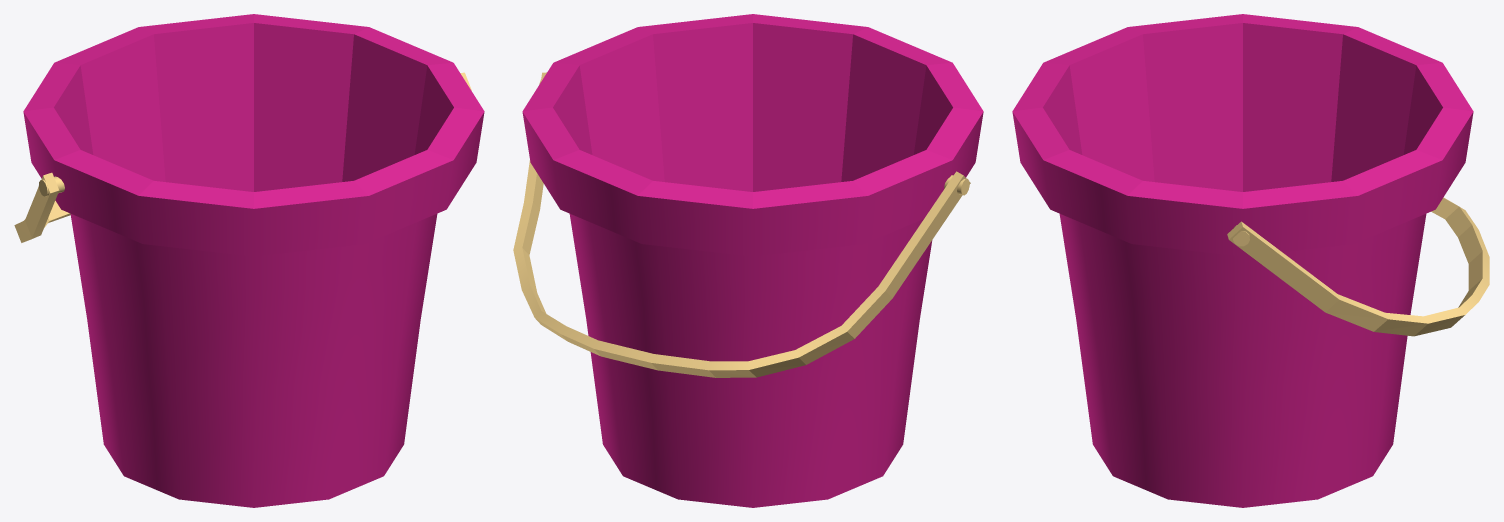
The model's file is Seau de plage.fbx.
The picture shows the model from 3 angles, left to right: view 1: azimuth 30°, elevation 25°; view 2: azimuth 150°, elevation 25°; view 3: azimuth 270°, elevation 25°; orthographic projection.
Visible parts, largest first — view 1: Seau; view 2: Seau; view 3: Seau.
Part boxes in pixels (x1,y1,x2,y2): Seau: (14, 14, 484, 507); Seau: (513, 14, 983, 507); Seau: (1012, 14, 1489, 507).
Bounding box in the file's own units: 19.5 × 15.24 × 19.07.
